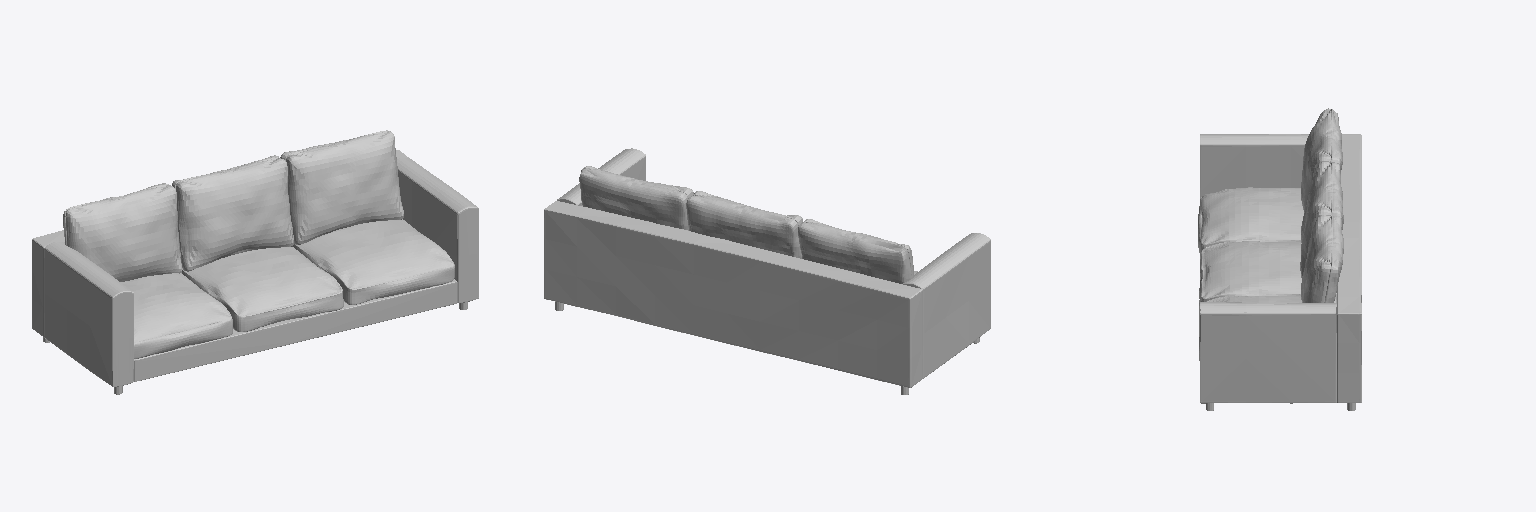
File: Couch.obj
3 views of the same model, side by side, from view 1: azimuth 30°, elevation 25°; view 2: azimuth 150°, elevation 25°; view 3: azimuth 270°, elevation 25° (orthographic).
Visible parts, largest first — view 1: Circle; view 2: Circle; view 3: Circle.
Part boxes in pixels (left/top/right/bottom): Circle: left=32, top=130, right=478, bottom=394; Circle: left=544, top=148, right=990, bottom=394; Circle: left=1198, top=108, right=1361, bottom=410.
Size of the model in its own units: 3.41 by 1.23 by 1.32.